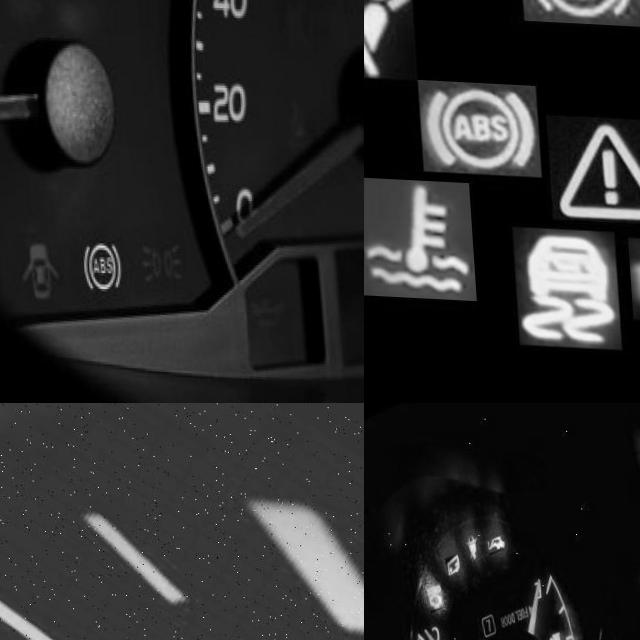Central Warning lamp: (542, 110, 640, 220)
Engine cooling system: (364, 174, 470, 297)
